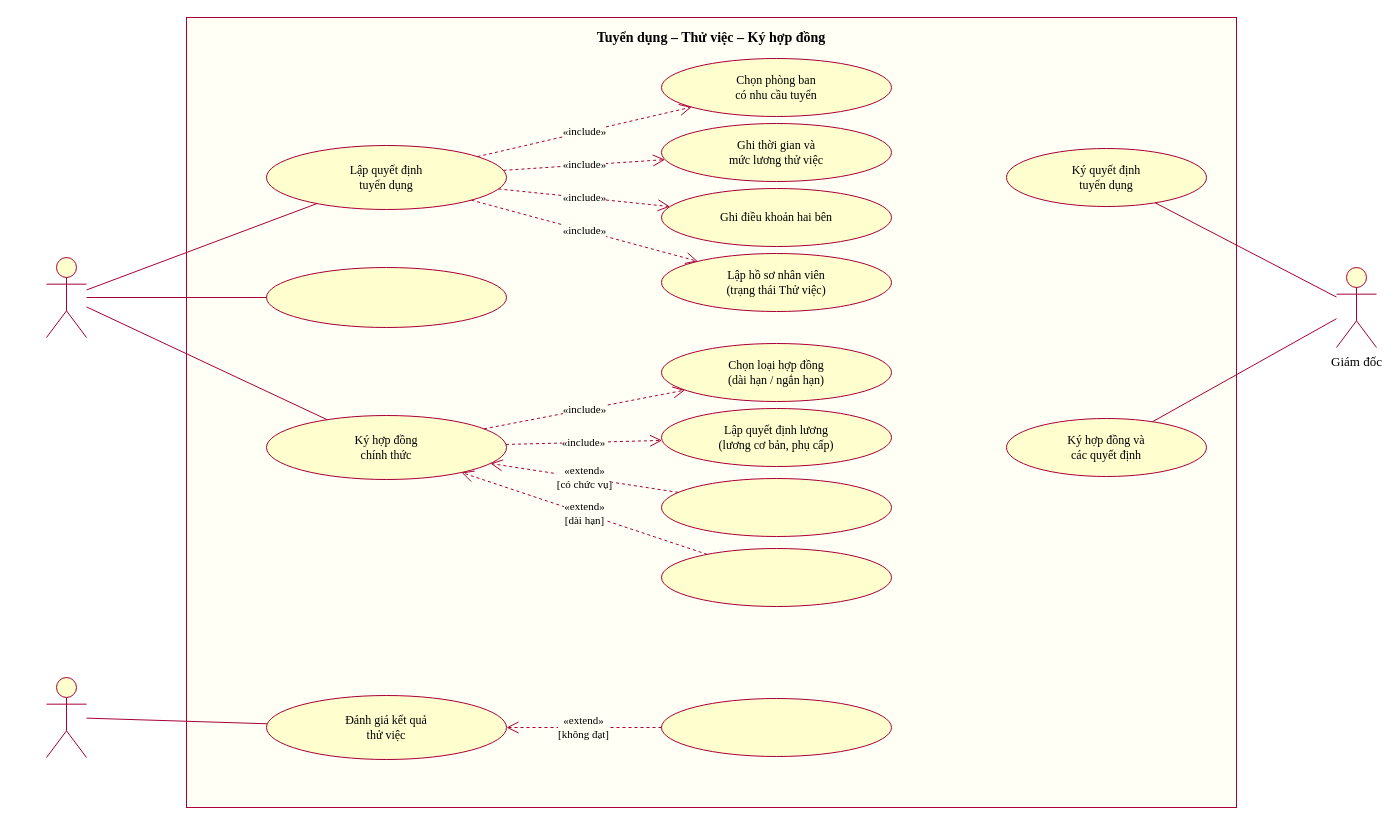
The diagram is 1399 pixels wide and 825 high, and some of its shapes have lost their labels. The shapes that lost their labels are listed below. From the top down, each one's box as (x1, y1, x2, y2) in pixels, then its label:
(46, 256, 86, 338): NV phòng nhân sự
(266, 266, 506, 328): Theo dõi nhân viên thử việc
(660, 478, 892, 536): Lập quyết định chức vụ và phụ cấp chức vụ
(660, 548, 892, 606): Lập hồ sơ BHYT, BHXH
(46, 676, 86, 758): Trưởng phòng ban
(660, 698, 892, 756): Chấm dứt thử việc
